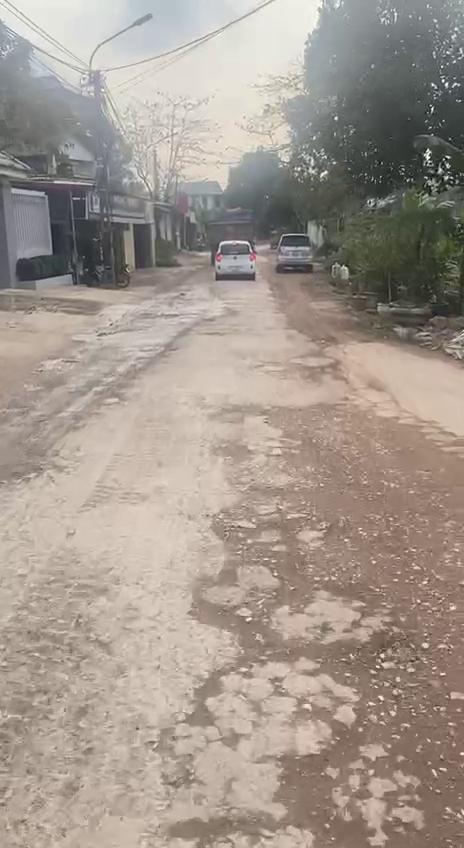pothole: (266, 714, 464, 848), (192, 592, 392, 716), (211, 517, 319, 602)
